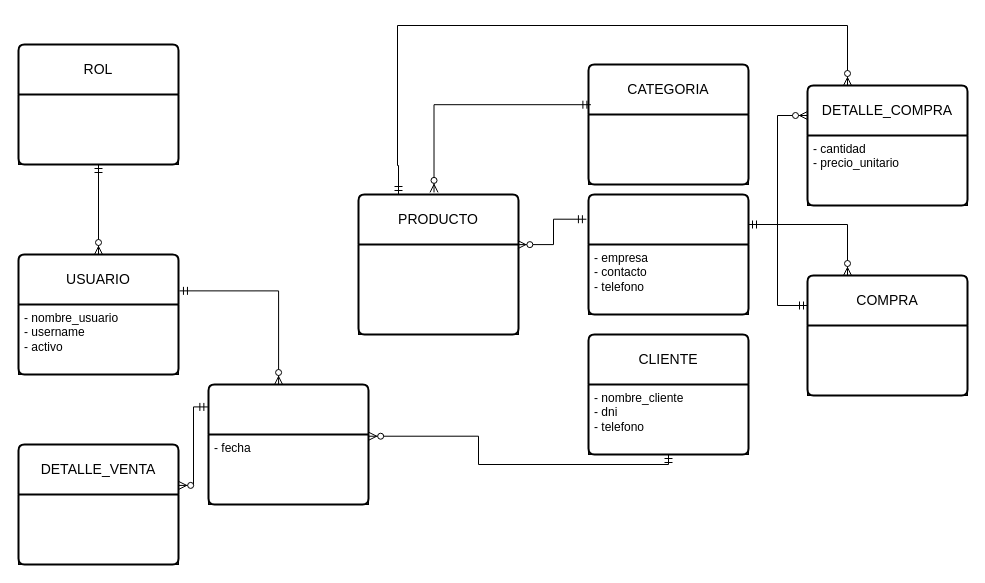
Image size: 985x583. Some labels were removed from this diagram. The shapes that lost their labels are listed below. From the top down, each one's box as (x1, y1, x2, y2) in pixels, then its label:
(18, 94, 178, 164): - nombre_rol
(588, 114, 748, 184): - nombre_categoria - descripcion
(587, 193, 749, 315): PROVEEDOR
(358, 244, 518, 334): - nombre_producto - precio - stock_actual - stock_minimo - img_url
(806, 324, 968, 396): - fecha - total
(207, 383, 369, 505): VENTA
(18, 494, 178, 564): - cantidad
